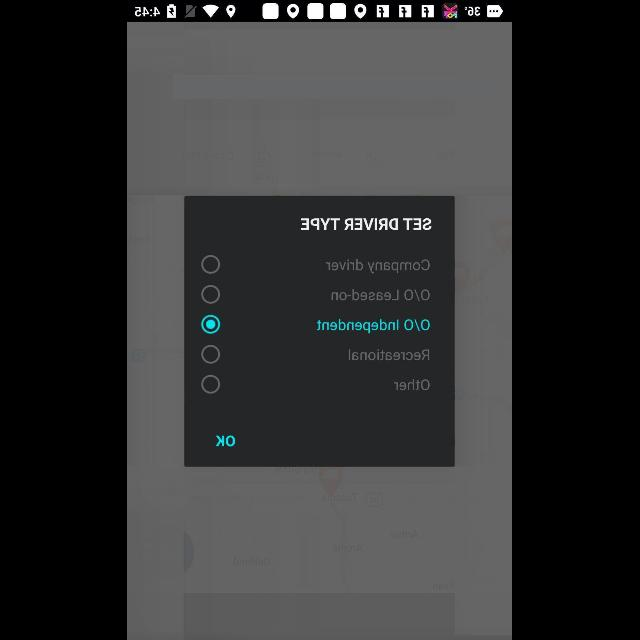checkbox: (202, 284, 222, 304), (202, 314, 220, 334), (202, 344, 220, 364), (202, 374, 220, 394), (202, 256, 220, 274)
panel: (184, 196, 456, 466)
text: (312, 319, 430, 333), (300, 218, 432, 230), (324, 259, 431, 273), (327, 289, 431, 301), (349, 348, 431, 362), (394, 379, 430, 391), (217, 435, 236, 447)
textbutton: (217, 435, 236, 447)
uppertaskbar: (128, 1, 512, 23)
